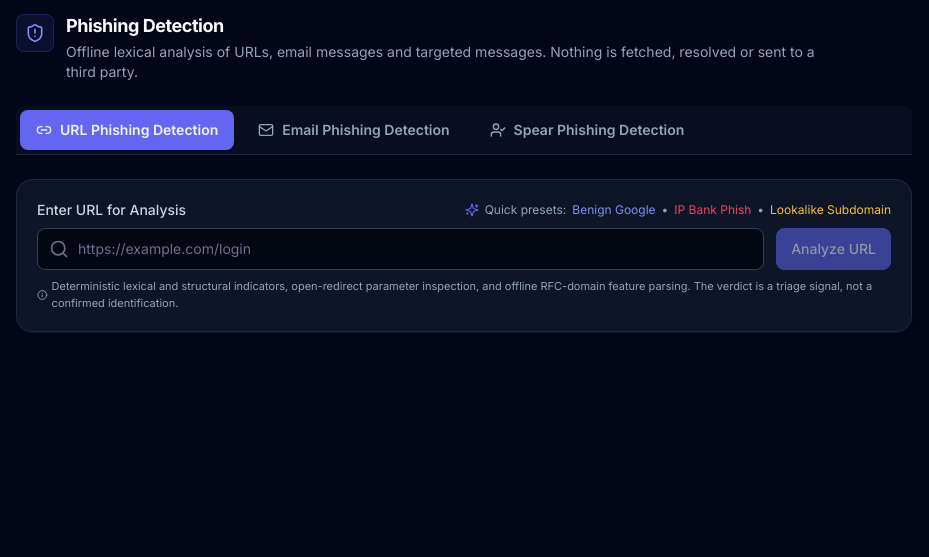
Scenario: PhishingDetectionPage (Phase 6) › surfaces a failed analysis as an error state
Step 1. Type "http://bad" into the field named "URL to analyze" → (401, 249), box [37,228,764,270]
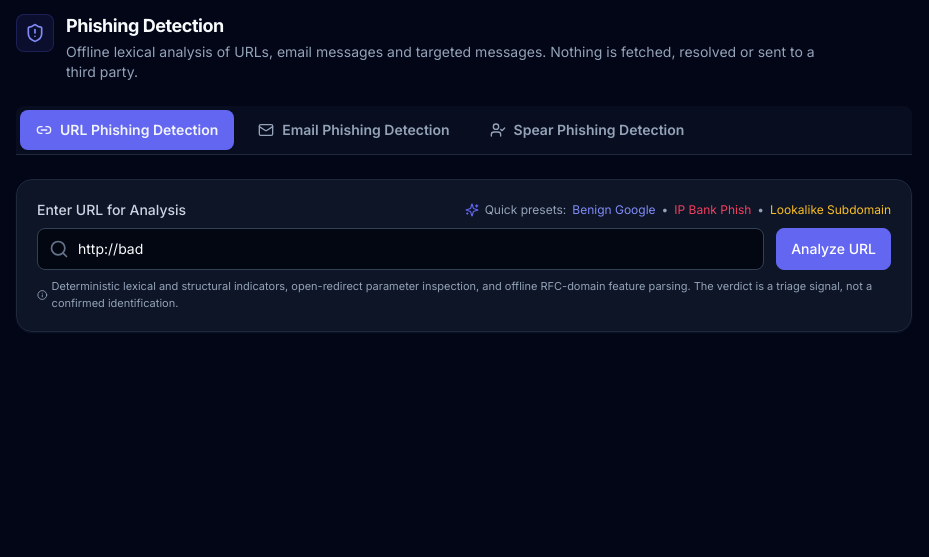
Step 2. Click the button "Analyze URL" → (834, 249), box [776,228,891,270]
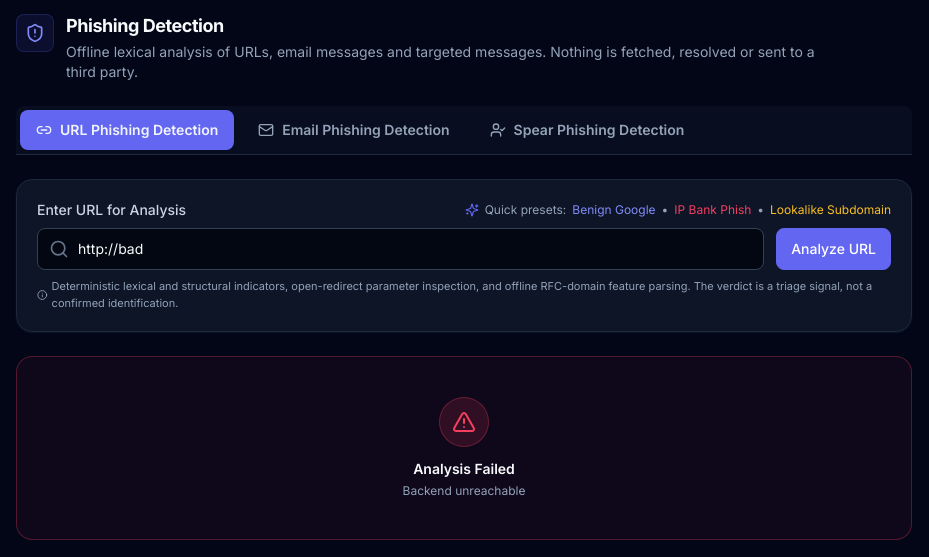
Check: the message "Analysis Failed Backend unreachable" is shown, box [16,356,912,540]
Check: the text "Backend unreachable" is shown, box [403,483,526,499]
